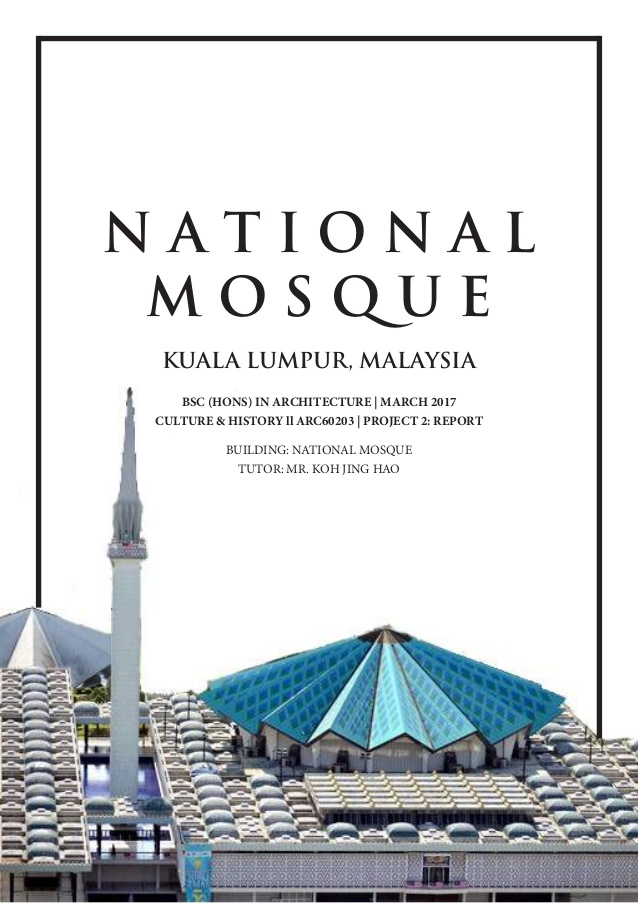Mosque: (96, 389, 553, 782)
